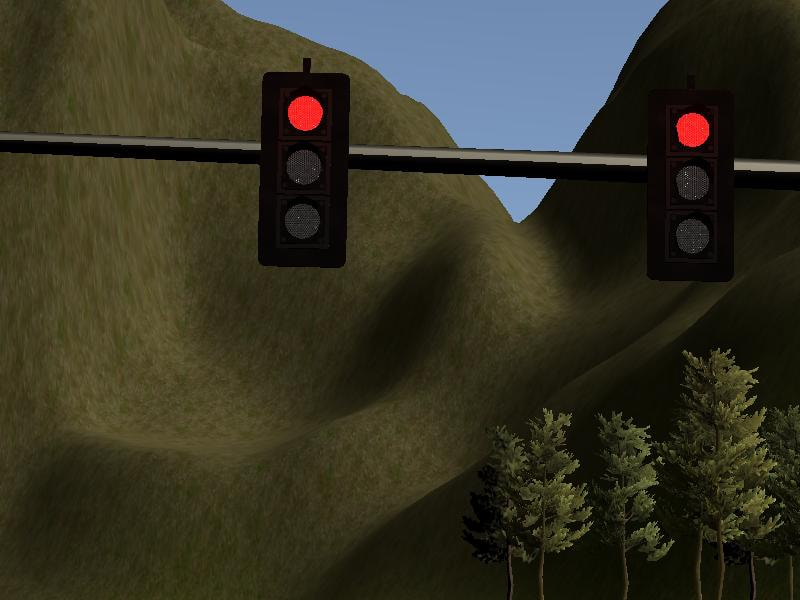red: (258, 72, 347, 267), (651, 83, 740, 278)
